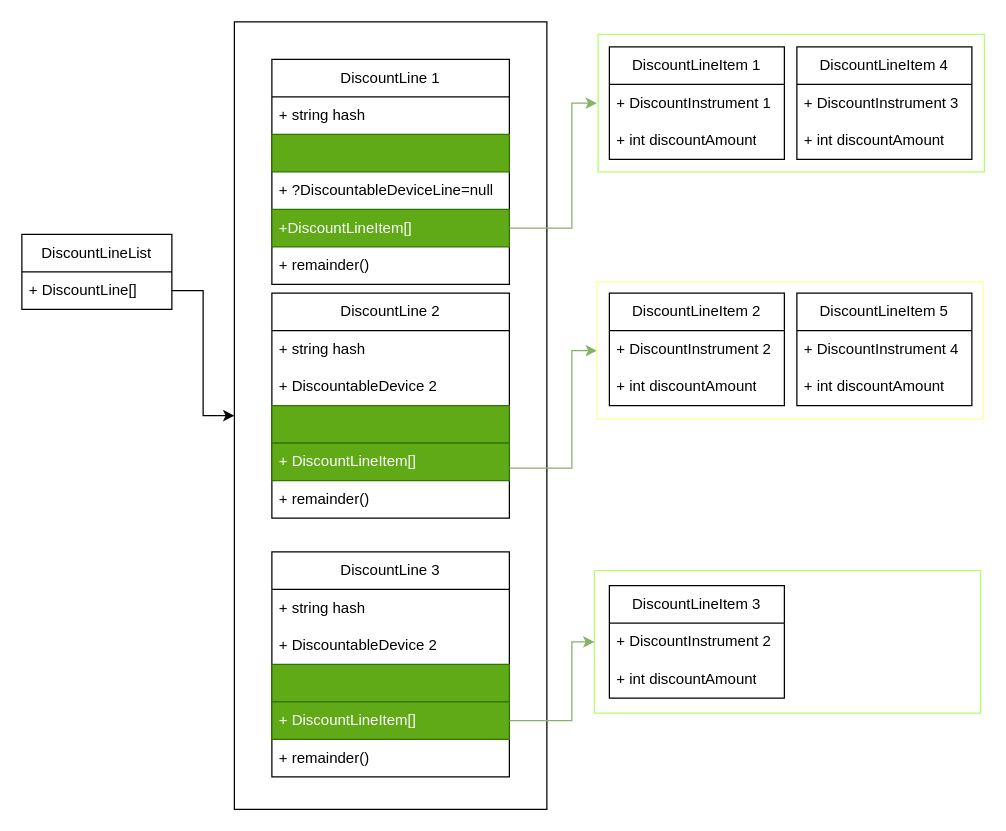
The diagram is 1006 pixels wide and 831 high, and some of its shapes have lost their labels. The shapes that lost their labels are listed below. From the top down, each one's centre as x and y in pixels, then its label:
point 390,152: + DiscountableDevice 1
point 390,423: + ?DiscountableDeviceLine 1
point 390,682: + ?DiscountableDeviceLine 2
